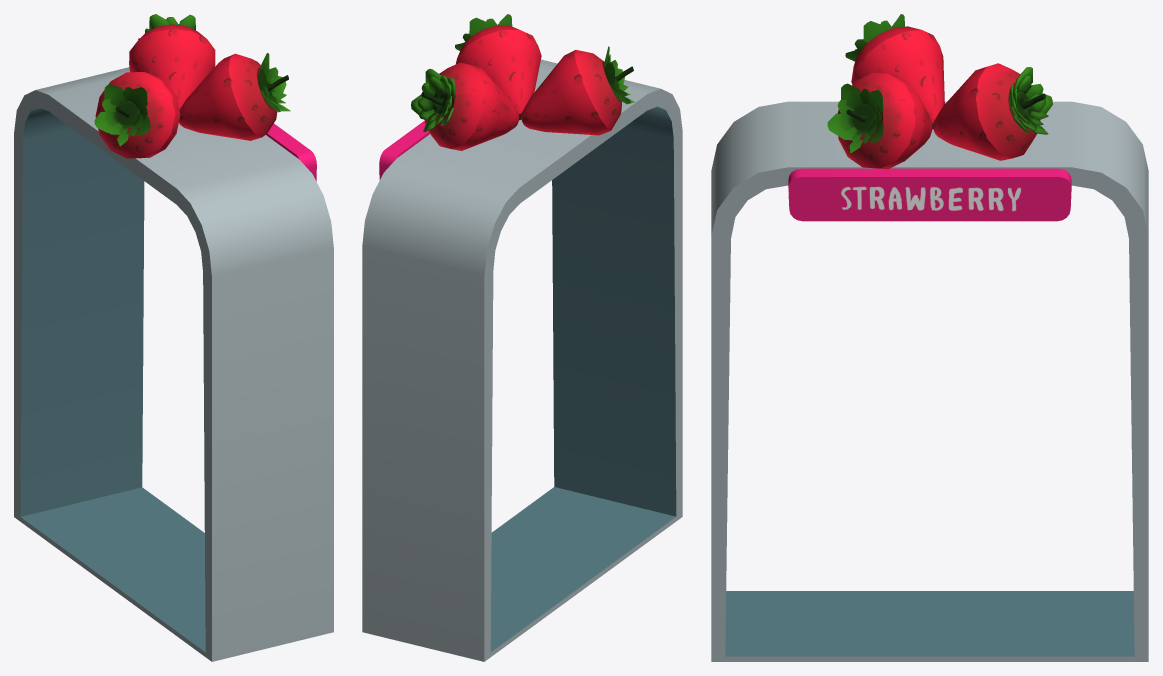
File: srawberry_aparat_son (1).fbx
3 views of the same model, side by side, from view 1: azimuth 30°, elevation 25°; view 2: azimuth 150°, elevation 25°; view 3: azimuth 270°, elevation 25° (orthographic). The views are drawn at different scales.
Parts seen in each view (by area): view 1: strawberry cake, strawberry cake.003; view 2: strawberry cake, strawberry cake.003; view 3: strawberry cake, strawberry cake.003.
Part boxes in pixels (x1,y1,x2,y2): strawberry cake: (14, 14, 333, 661); strawberry cake.003: (94, 72, 180, 158); strawberry cake: (362, 14, 682, 661); strawberry cake.003: (521, 46, 634, 135); strawberry cake: (711, 63, 1148, 661); strawberry cake.003: (845, 14, 944, 129).
Bounding box in the file's own units: 0.3886 × 1.06 × 0.7276.
